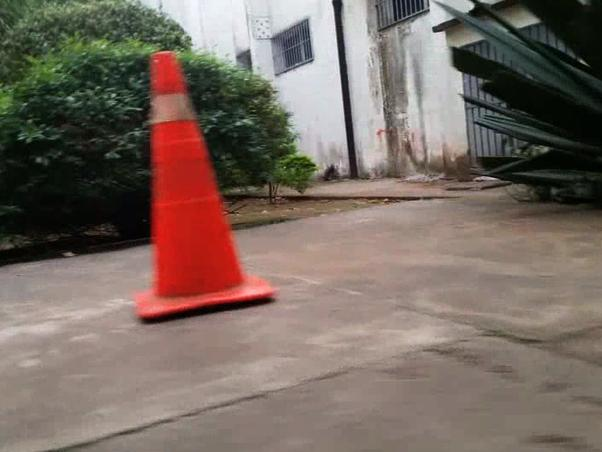0 cone: (132, 50, 274, 321)
